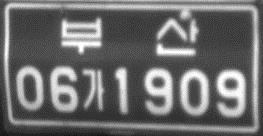0: (178, 66, 211, 118), (15, 64, 45, 111)
1: (112, 65, 132, 116)
6: (48, 63, 80, 113)
9: (140, 66, 175, 118), (215, 68, 248, 121)
가: (78, 66, 106, 113)
부산_D: (59, 16, 200, 59)
